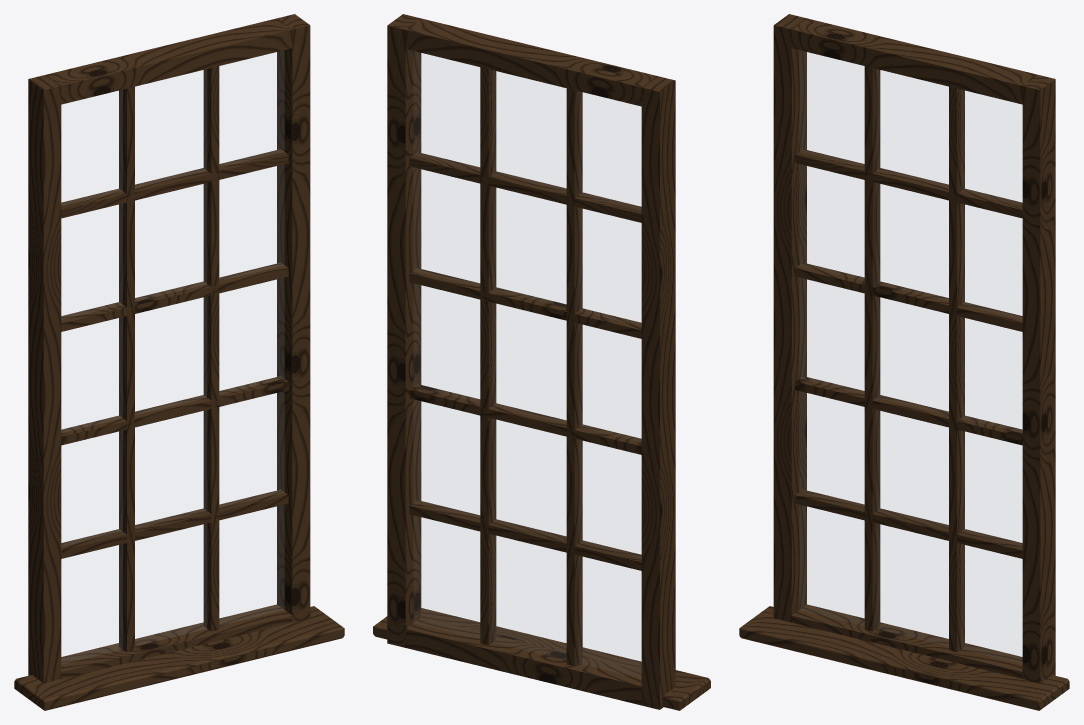
The model's file is Window.glb.
3 renders of one model, left to right at view 1: azimuth 30°, elevation 25°; view 2: azimuth 150°, elevation 25°; view 3: azimuth 330°, elevation 25°, orthographic. The views are drawn at different scales.
Parts seen in each view (by area): view 1: Window; view 2: Window; view 3: Window.
Boxes of the visible parts, <box> form: Window: <box>14,14,344,710</box>; Window: <box>373,14,710,710</box>; Window: <box>739,14,1069,710</box>.
Bounding box in the file's own units: 1.36 × 2.6 × 0.26.
2 materials, 1 textured.
